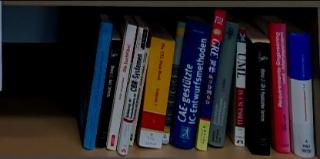book-spine: (168, 18, 211, 150), (195, 9, 227, 152), (105, 22, 138, 152), (138, 36, 175, 149), (208, 19, 240, 148), (117, 27, 149, 156), (83, 20, 114, 152), (288, 30, 315, 159), (160, 20, 186, 146), (95, 38, 121, 151), (270, 20, 291, 154), (249, 42, 272, 156), (127, 46, 151, 147), (232, 29, 247, 147)
